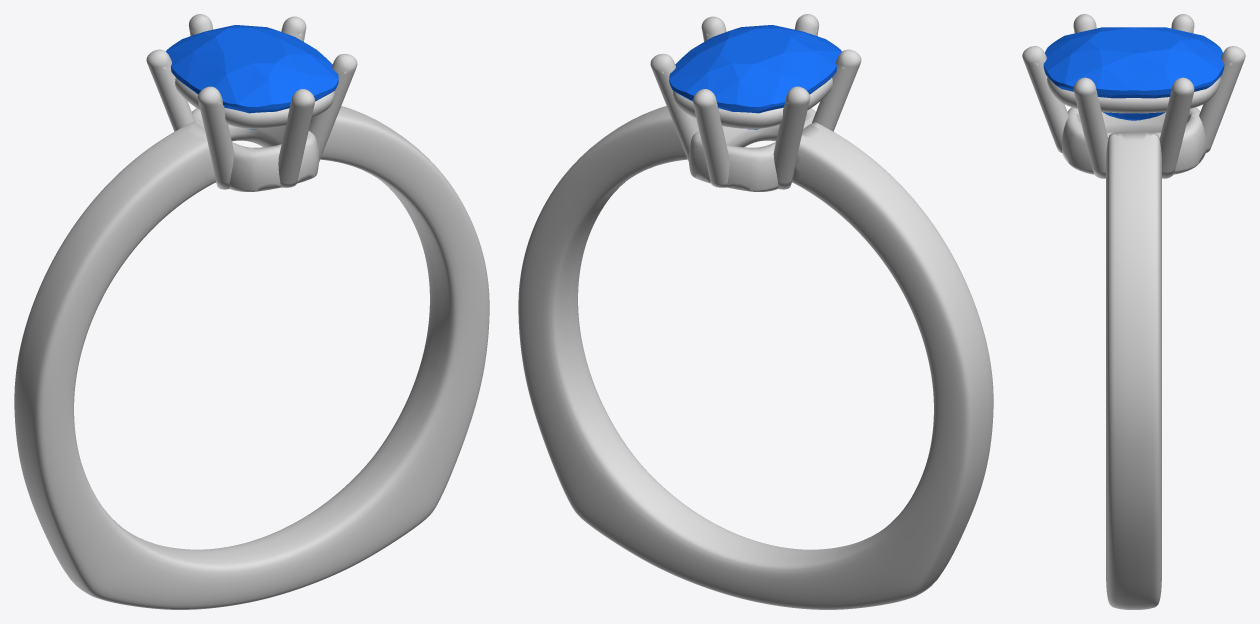
The model's file is bluesapphire-cushion-platinum-6prong-europeanshank-nosidestones.glb.
The picture shows the model from 3 angles, left to right: view 1: azimuth 30°, elevation 25°; view 2: azimuth 150°, elevation 25°; view 3: azimuth 270°, elevation 25°; orthographic projection. The views are drawn at different scales.
Parts seen in each view (by area): view 1: metal.003, stone; view 2: metal.003, stone; view 3: metal.003, stone.
Part boxes in pixels (x1,y1,x2,y2): metal.003: [14, 14, 489, 609]; stone: [166, 25, 338, 129]; metal.003: [518, 14, 993, 609]; stone: [669, 25, 841, 129]; metal.003: [1022, 14, 1245, 609]; stone: [1043, 27, 1224, 120].
Size of the model in its own units: 20.1 by 23.04 by 8.8.
